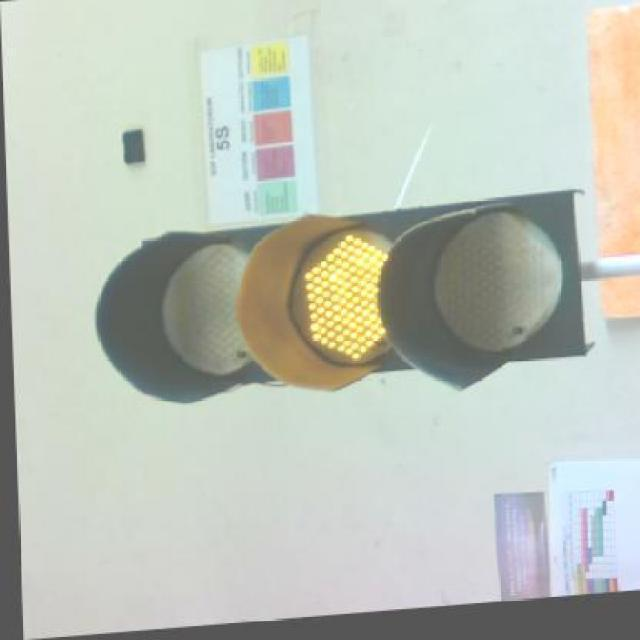yellow_light: (97, 190, 590, 402)
